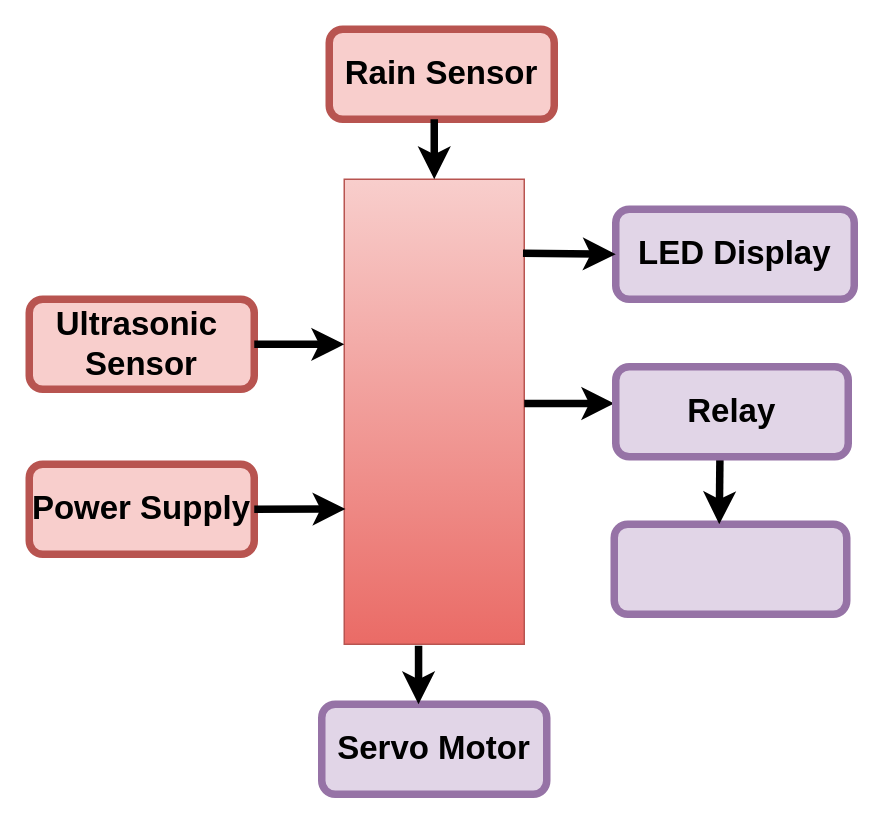
This 884x824 diagram has some shape labels left out. The centre of each missing label's shape, as x and y in pixels:
"Arduino Uno" belongs at pixel 433 411.
"DC Motor" belongs at pixel 730 568.
